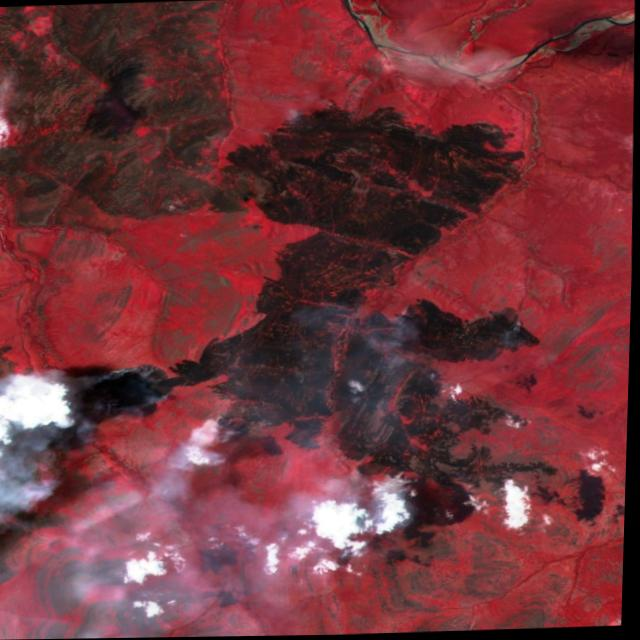fire: (104, 356, 183, 413), (203, 406, 277, 449), (367, 293, 425, 333), (501, 314, 535, 338)
